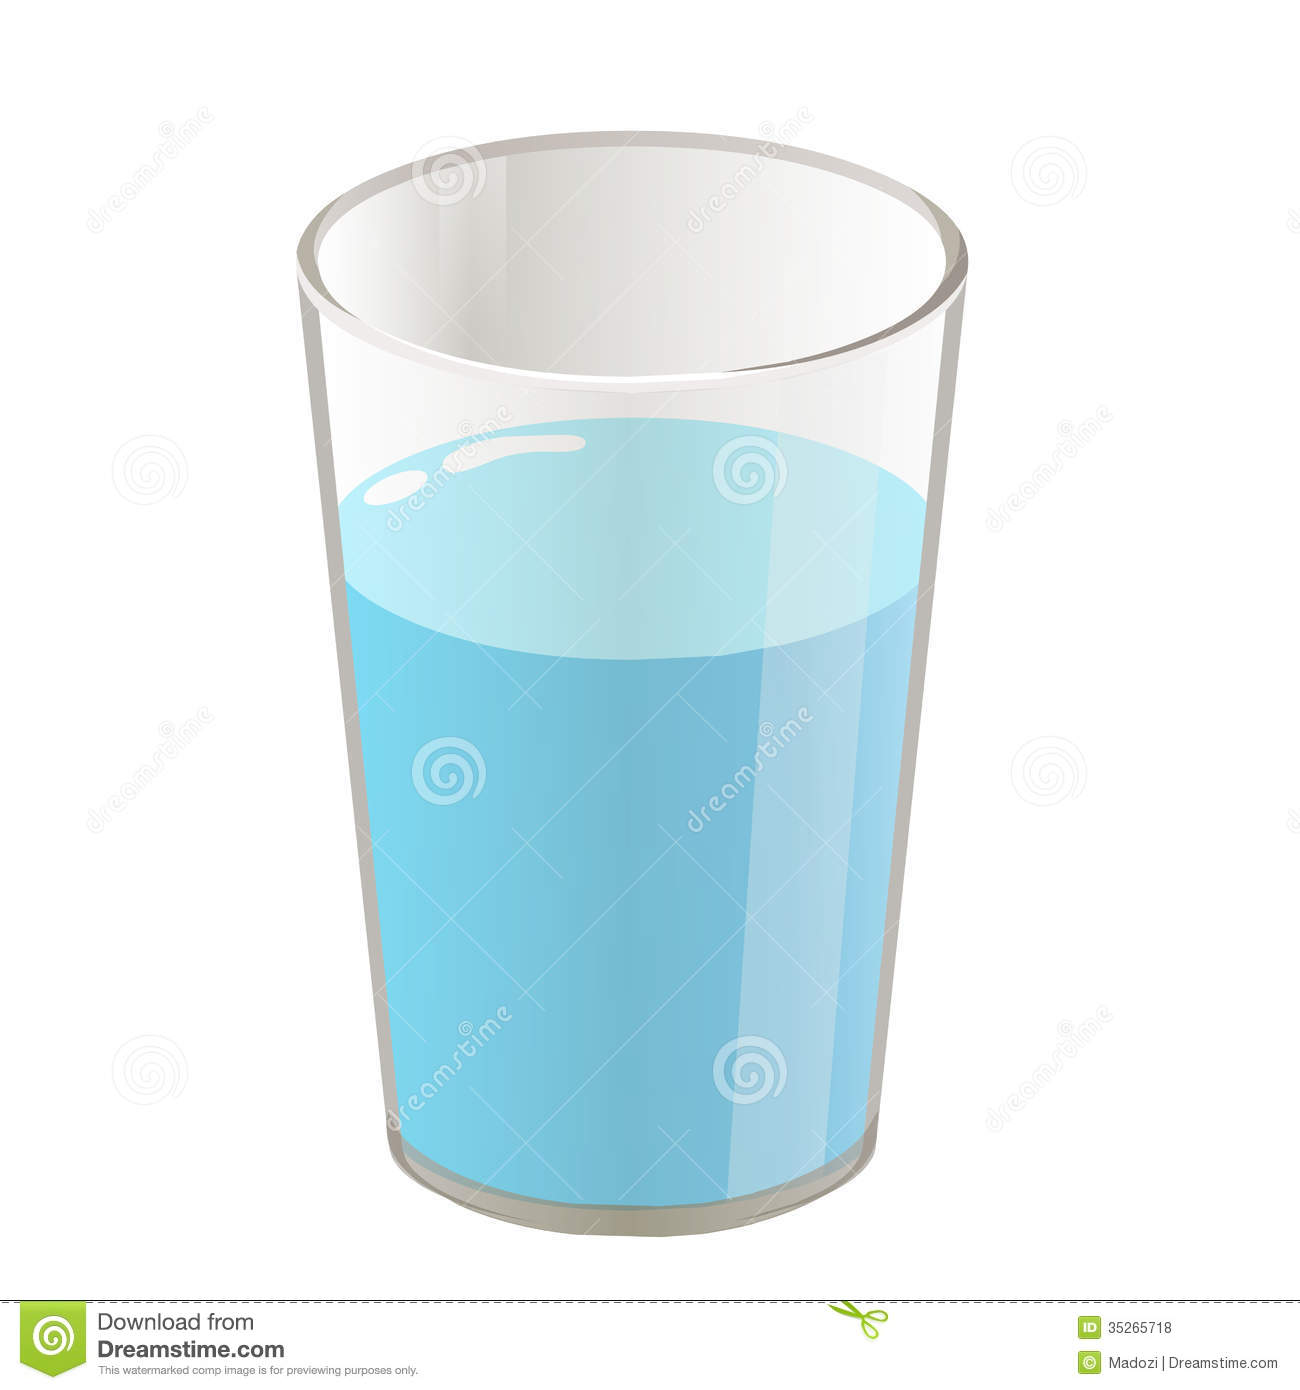glass of water: (340, 292, 933, 1215)
